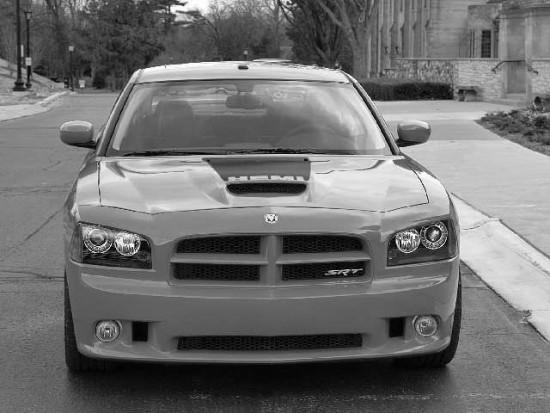car: (61, 61, 461, 371)
